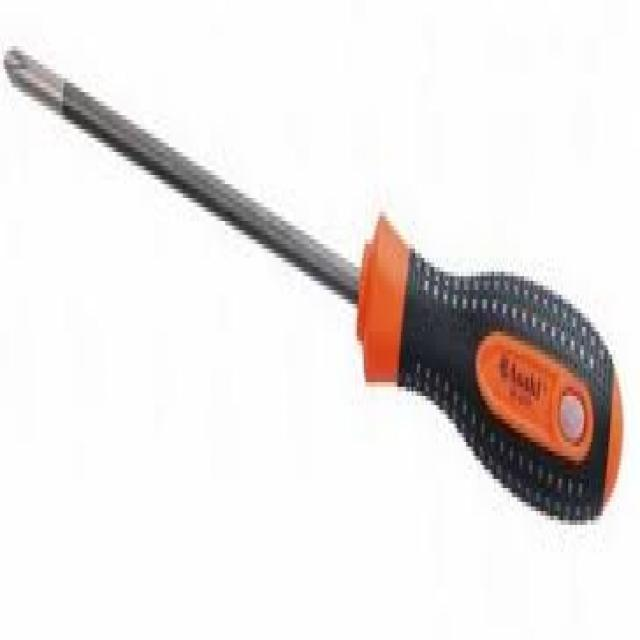screwdriver: (2, 41, 626, 539)
